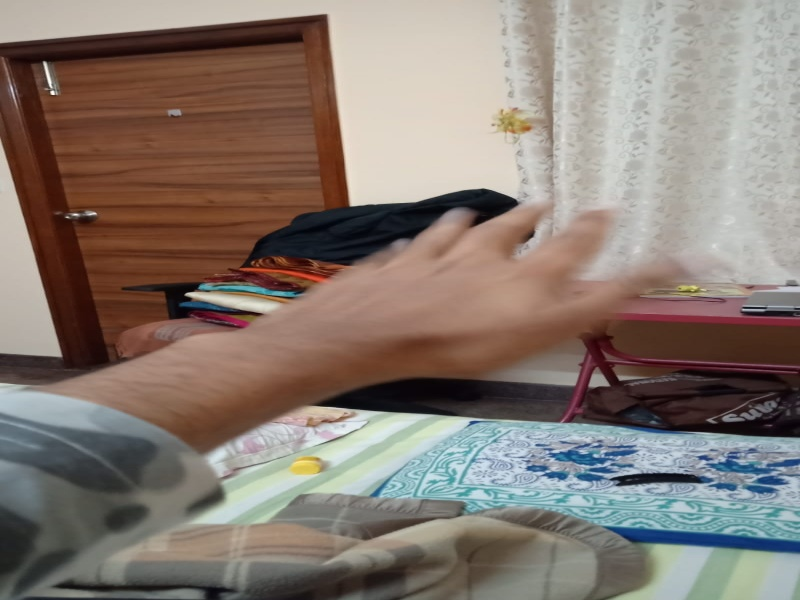Hand: (212, 187, 721, 394)
